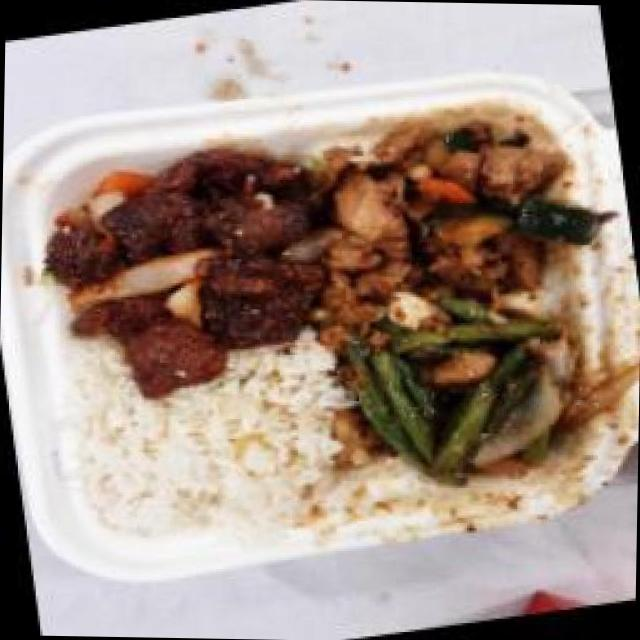Beijing Beef: (31, 122, 346, 405)
Kung Pao Chicken: (295, 87, 594, 335)
String Bean Chicken Breast: (332, 272, 621, 502)
White Steamed Rice: (68, 356, 354, 560)
